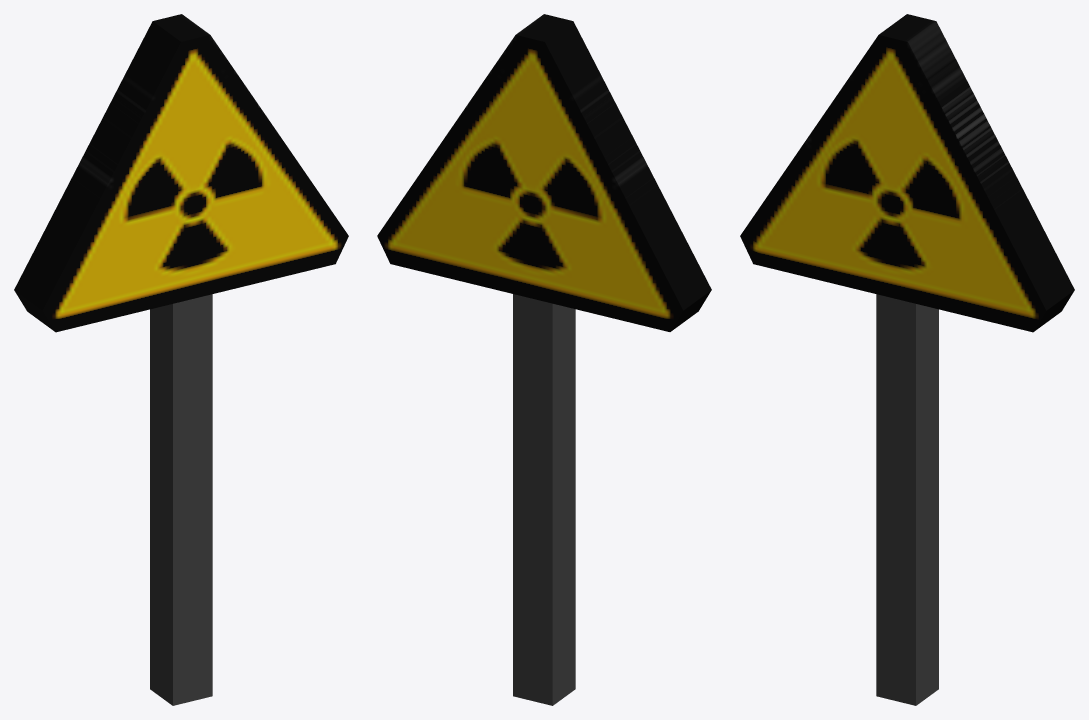
File: radiation sign.fbx
3 views of the same model, side by side, from view 1: azimuth 30°, elevation 25°; view 2: azimuth 150°, elevation 25°; view 3: azimuth 330°, elevation 25° (orthographic).
Visible parts, largest first — view 1: Cube; view 2: Cube; view 3: Cube.
Boxes of the visible parts, bbox=[...] form: Cube: bbox=[14, 14, 348, 705]; Cube: bbox=[377, 14, 711, 705]; Cube: bbox=[740, 14, 1074, 705].
Bounding box in the file's own units: 0.6036 × 1.25 × 0.0972.
